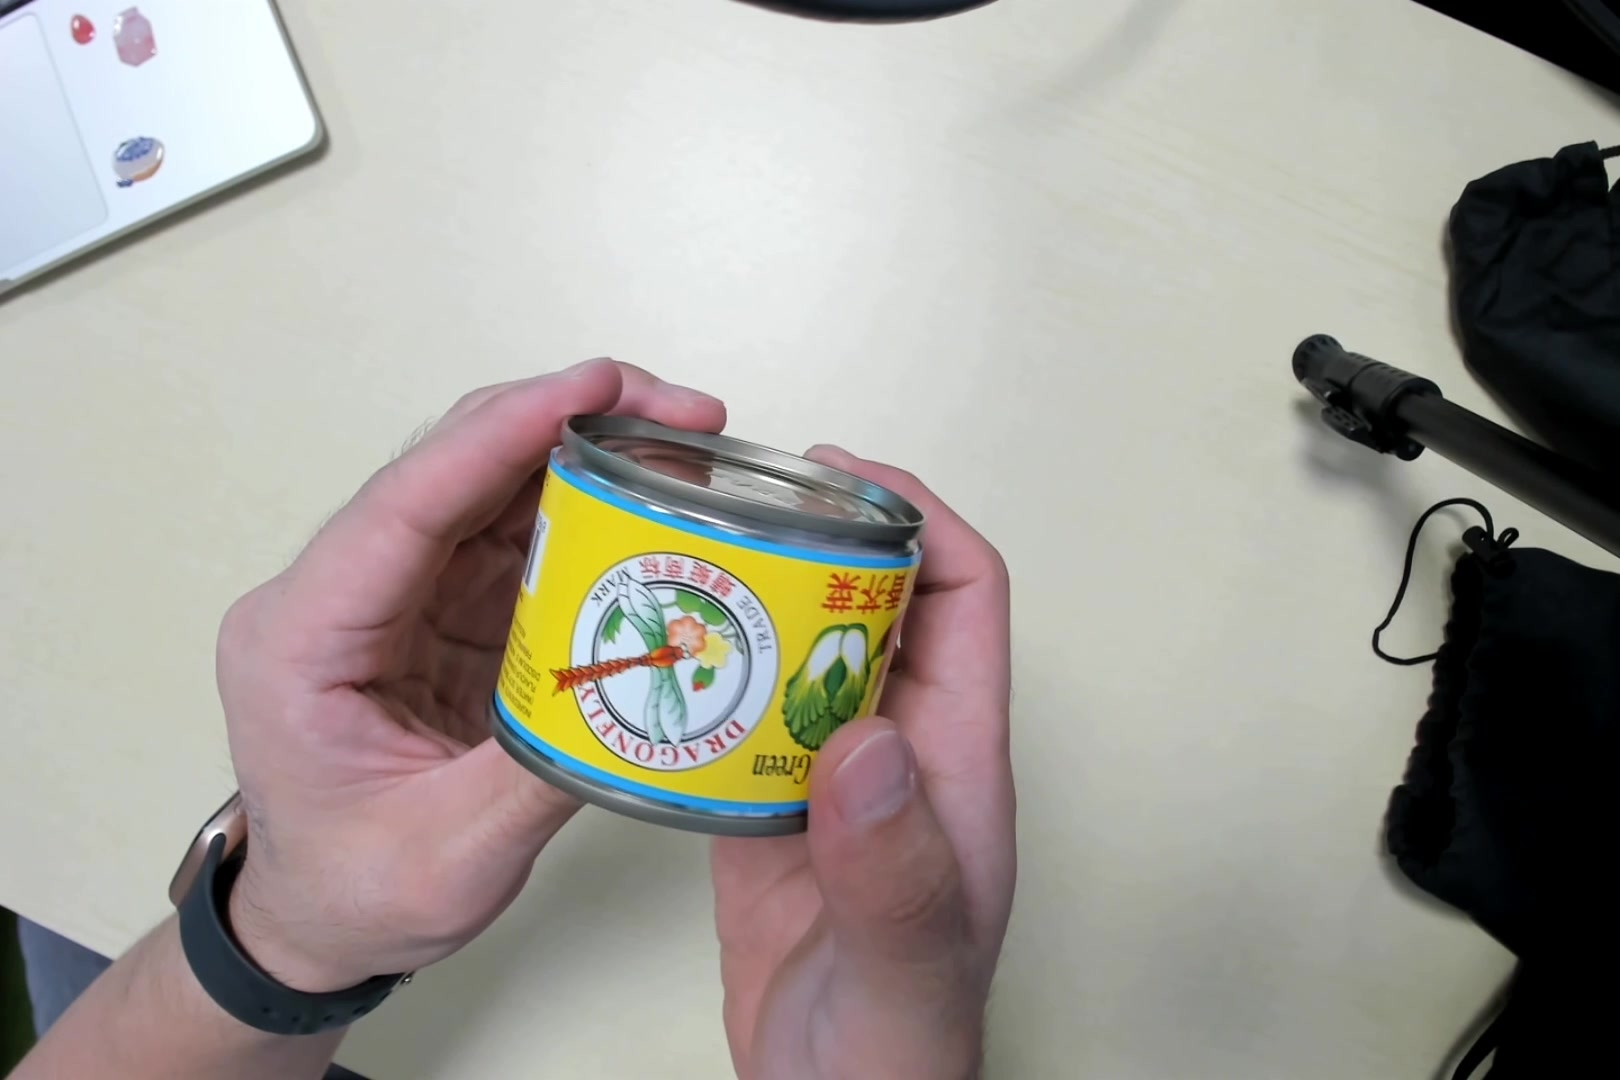CannedFruitsCocktail_0-99g_Halal_NonHealthy: (501, 433, 916, 818)
